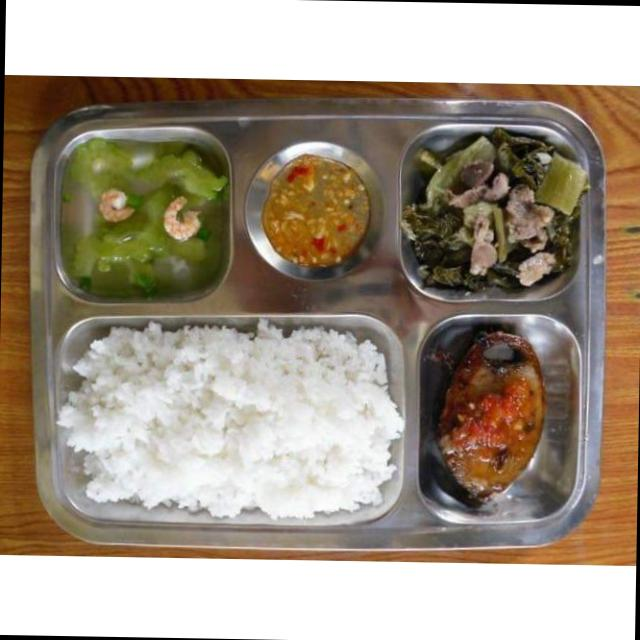bo xao: (449, 164, 553, 275)
ca kho: (438, 330, 545, 502)
canh bau: (56, 138, 229, 301)
com: (58, 319, 402, 519)
